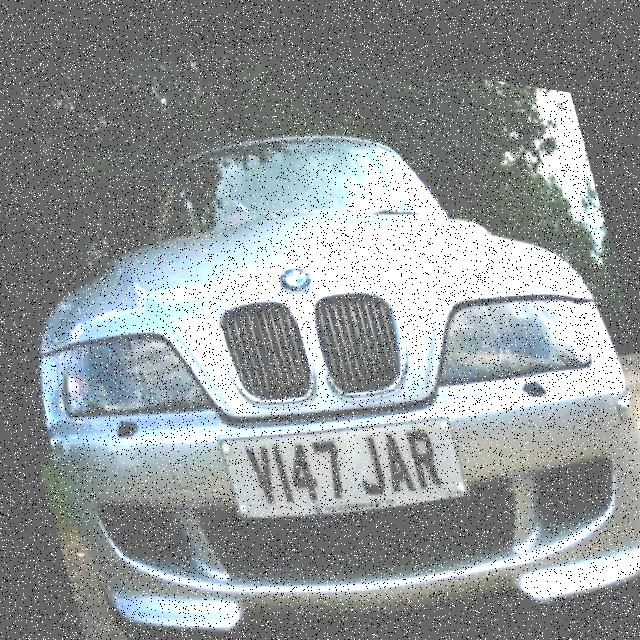license_plate: (214, 372, 469, 544)
